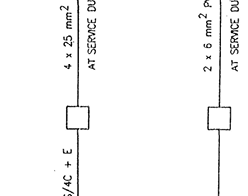Cable Termination Box: (57, 93, 97, 138), (201, 101, 244, 136)
